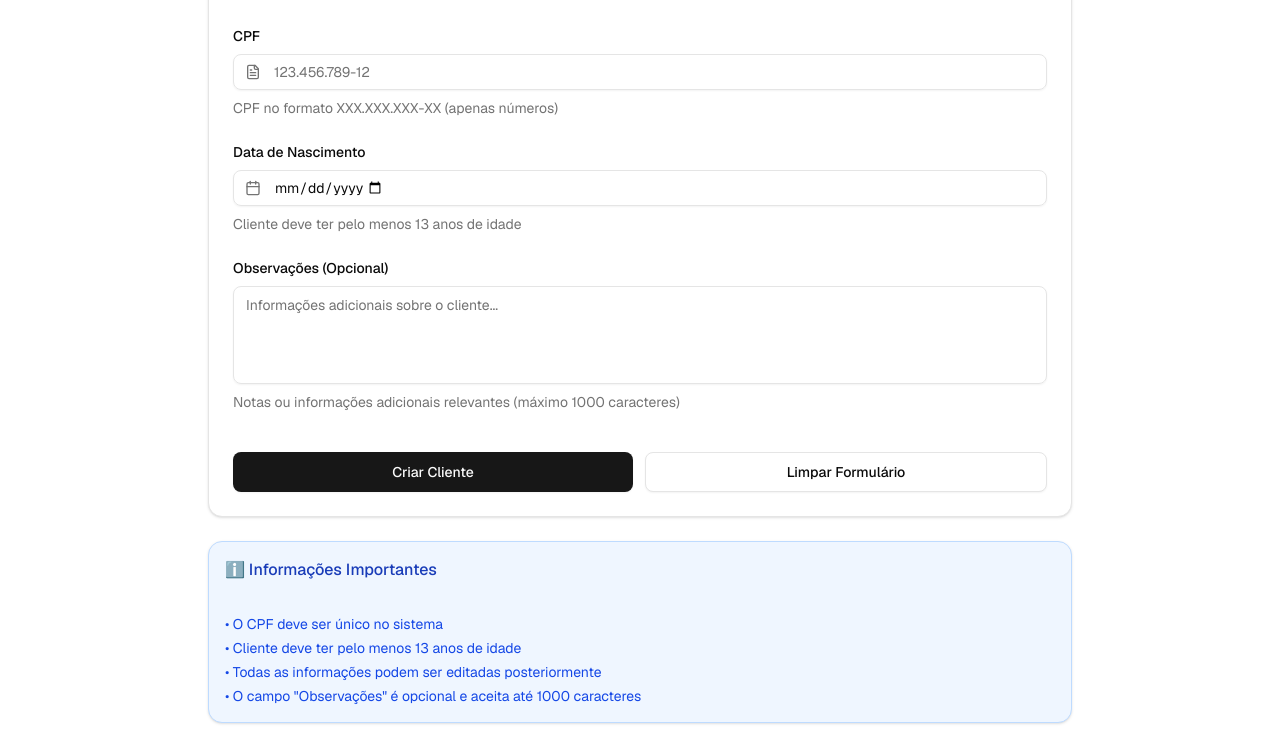
it: NewClientPage › Form Interaction and Validation › validates required fields
The width and height of the screenshot is (1280, 741).
(page scrolled)
Click the button "Criar Cliente". click: click(433, 472)
box: [233,452,633,492]
(page scrolled)
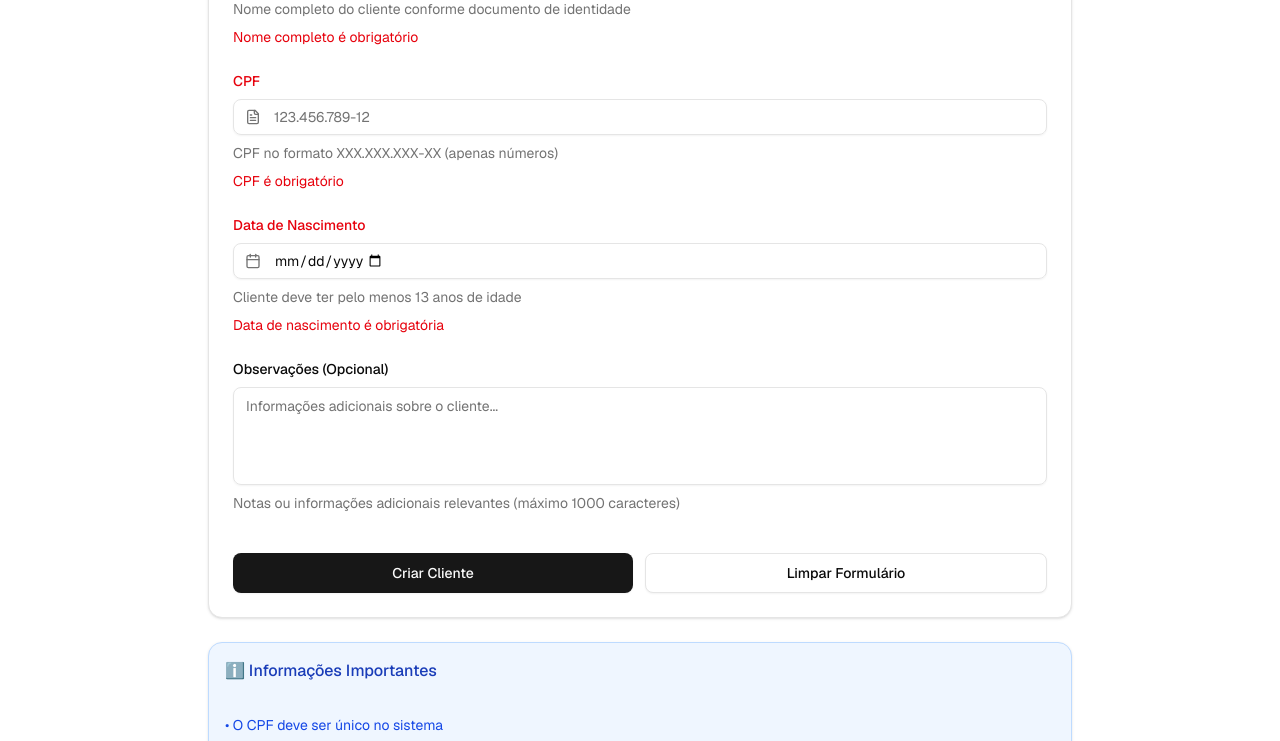
Result: the text "Nome completo é obrigatório" is shown at [233,28,418,46]
Result: the text "CPF é obrigatório" is shown at [233,172,344,190]
Result: the text "Data de nascimento é obrigatória" is shown at [233,316,444,334]
